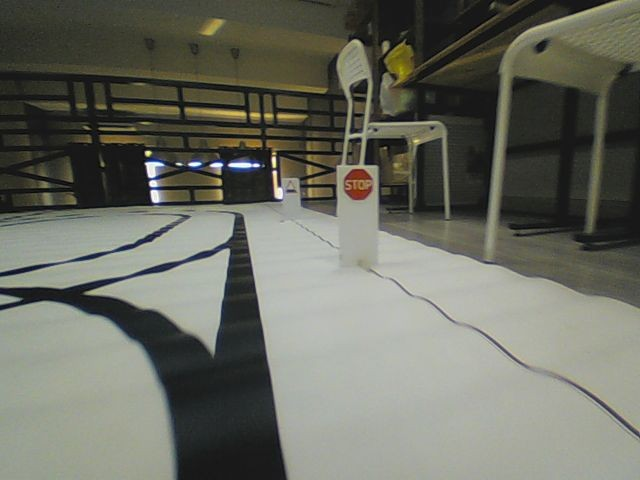Stop: (342, 167, 373, 201)
